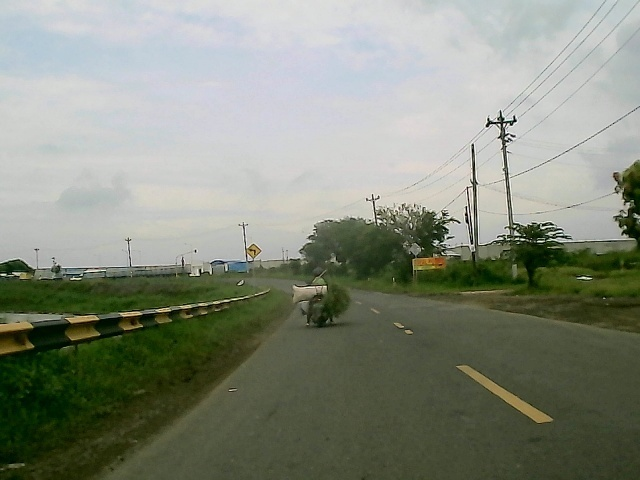Tikungan tajam ke kiri: (246, 244, 262, 261)
